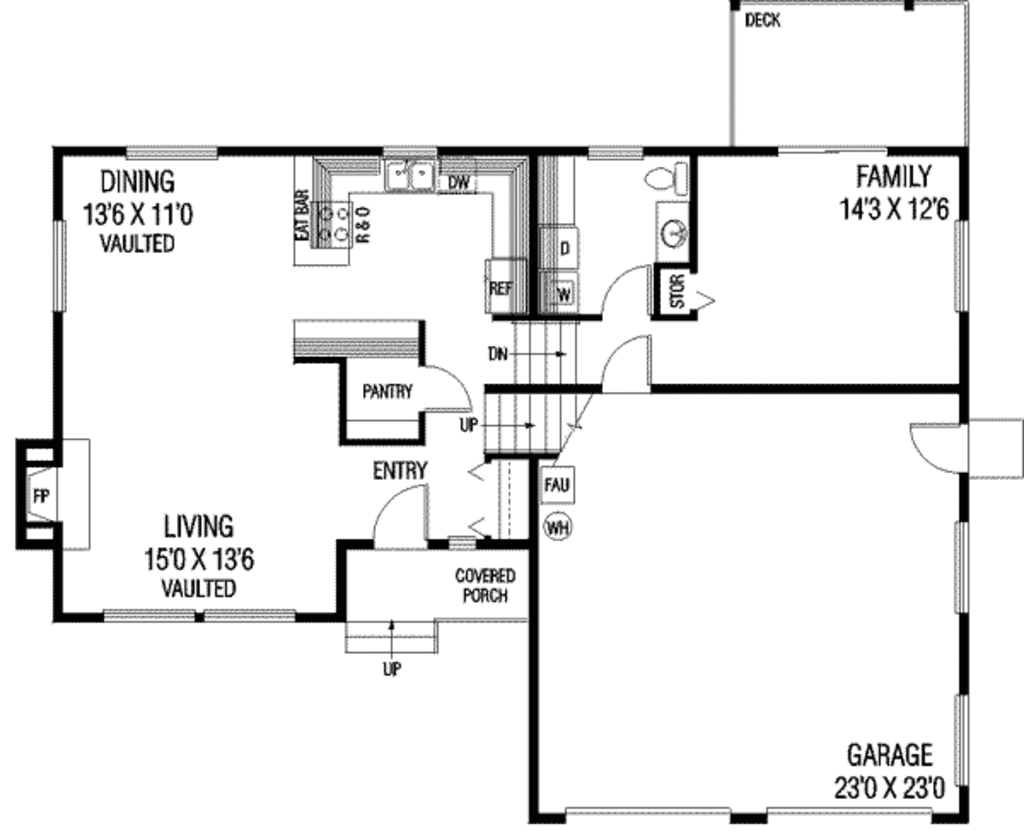door: (350, 467, 439, 555), (907, 419, 977, 485), (596, 332, 666, 397), (596, 262, 654, 326), (416, 357, 478, 414)
large_sink: (634, 161, 694, 201)
small_sink: (655, 202, 692, 263)
stairs: (478, 300, 595, 450), (338, 611, 446, 662)
twin_sink: (378, 153, 450, 200)
window: (943, 693, 983, 792), (189, 597, 302, 631), (116, 141, 224, 171), (946, 220, 974, 320), (950, 518, 973, 613), (99, 610, 204, 626)
